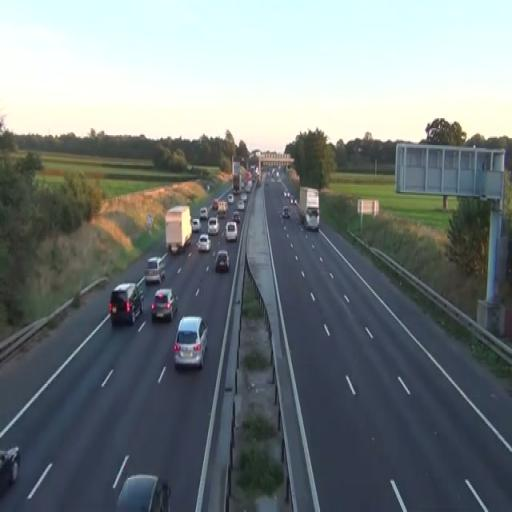Car: (115, 473, 171, 512), (173, 316, 208, 370), (108, 282, 144, 325), (0, 445, 21, 492), (150, 289, 178, 323), (144, 254, 167, 284), (216, 250, 230, 273), (225, 221, 237, 243), (197, 234, 211, 252), (207, 218, 219, 236)
Truck: (166, 204, 192, 254), (298, 187, 320, 231)
